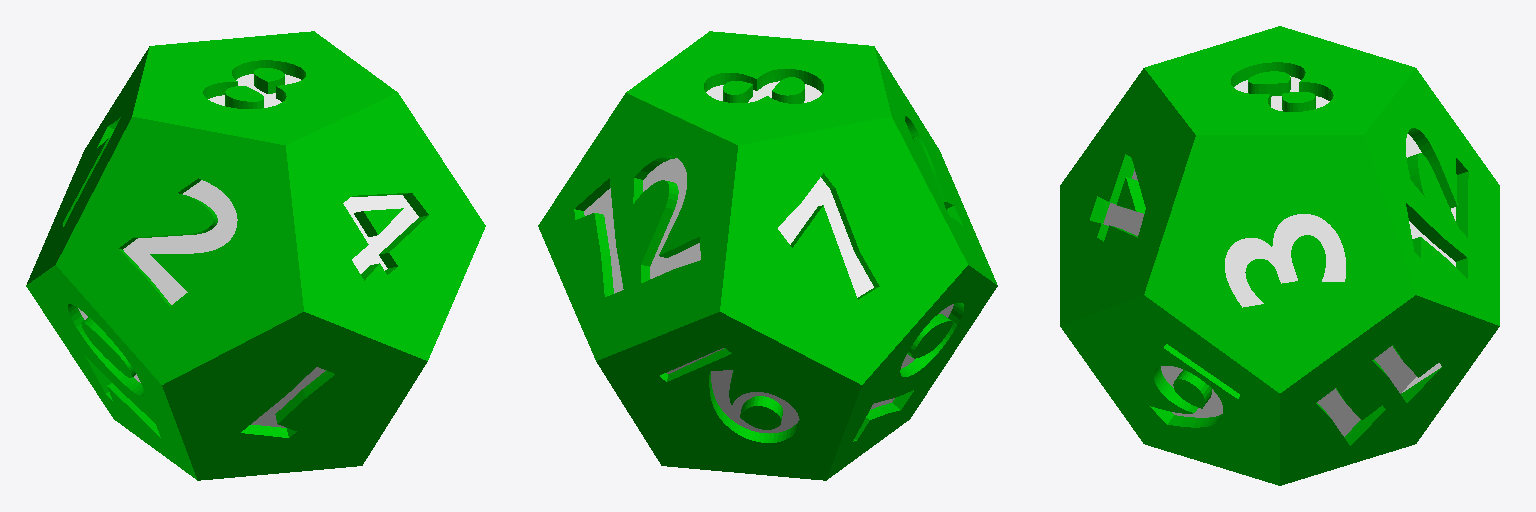
Rendered from Dice12.obj.
The picture shows the model from 3 angles: view 1: azimuth 30°, elevation 25°; view 2: azimuth 150°, elevation 25°; view 3: azimuth 270°, elevation 25°; orthographic projection.
Visible parts, largest first — view 1: D12_17mm; view 2: D12_17mm; view 3: D12_17mm.
Boxes of the visible parts, box(x1,y1,x2,y2) form: D12_17mm: box(26, 31, 485, 480); D12_17mm: box(538, 31, 997, 480); D12_17mm: box(1060, 26, 1499, 485).
Bounding box in the file's own units: 2.1 × 1.7 × 2.